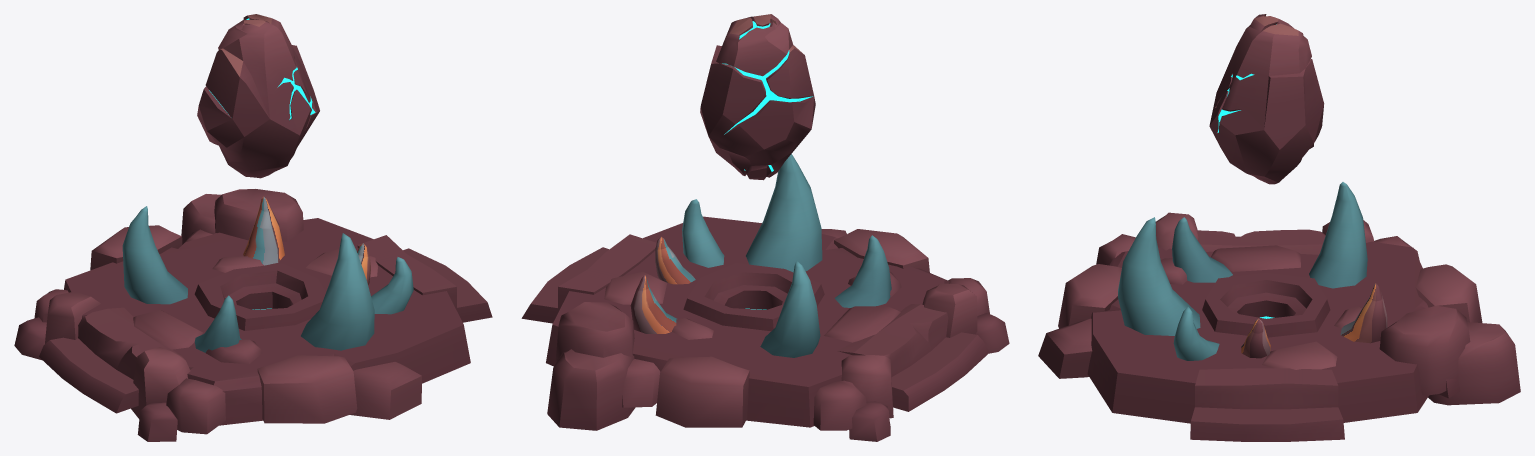
File: Orb002.fbx
3 views of the same model, side by side, from view 1: azimuth 30°, elevation 25°; view 2: azimuth 150°, elevation 25°; view 3: azimuth 270°, elevation 25° (orthographic).
Parts seen in each view (by area): view 1: Cube.001, Cube.006, Cylinder.003, Cylinder.001, Cube.002, Cube.005, Cylinder.005, Cylinder.006, Cylinder.004, Cube.003, Cube.004; view 2: Cube.001, Cube.006, Cube.003, Cylinder.003, Cube.002, Cube.005, Cylinder.001, Cylinder.004, Cylinder.006, Cylinder.005, Cylinder.007; view 3: Cube.001, Cube.006, Cube.002, Cylinder.003, Cube.003, Cylinder.001, Cube.005, Cylinder.004, Cylinder.005, Cylinder.006, Cylinder.007.
Boxes of the visible parts, box(x1,y1,x2,y2) form: Cube.001: box(14, 218, 492, 441); Cube.006: box(197, 14, 319, 178); Cylinder.003: box(301, 233, 374, 350); Cylinder.001: box(122, 206, 187, 304); Cube.002: box(214, 189, 303, 241); Cube.005: box(133, 249, 378, 349); Cylinder.005: box(243, 196, 284, 265); Cylinder.006: box(371, 257, 413, 314); Cylinder.004: box(194, 295, 241, 352); Cube.003: box(181, 194, 221, 244); Cube.004: box(206, 339, 262, 364); Cube.001: box(521, 216, 1009, 441); Cube.006: box(700, 14, 815, 180); Cube.003: box(547, 349, 635, 430); Cylinder.003: box(746, 154, 822, 272); Cube.002: box(555, 302, 634, 363); Cube.005: box(604, 272, 900, 342); Cylinder.001: box(760, 260, 820, 357); Cylinder.004: box(834, 235, 891, 307); Cylinder.006: box(682, 199, 724, 267); Cylinder.005: box(630, 275, 677, 333); Cylinder.007: box(655, 236, 695, 284); Cube.001: box(1038, 212, 1482, 441); Cube.006: box(1209, 14, 1324, 184); Cube.002: box(1379, 305, 1470, 395); Cylinder.003: box(1118, 217, 1200, 335); Cube.003: box(1428, 322, 1520, 405); Cylinder.001: box(1309, 182, 1367, 288); Cube.005: box(1211, 245, 1362, 369); Cylinder.004: box(1172, 217, 1232, 282); Cylinder.005: box(1340, 283, 1387, 343); Cylinder.006: box(1173, 306, 1219, 360); Cylinder.007: box(1241, 318, 1270, 358).
Bounding box in the file's own units: 1.19 × 0.9659 × 1.26.
